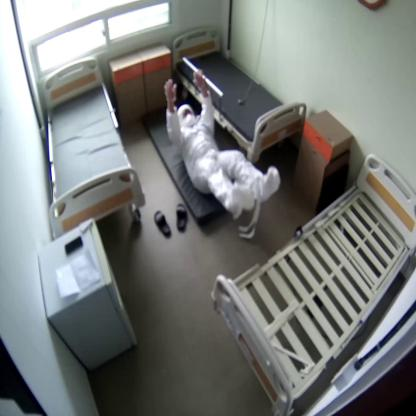Bed: (171, 28, 306, 162)
Person: (164, 70, 280, 218)
